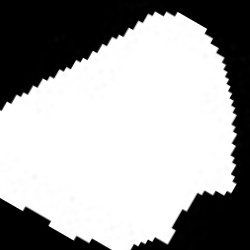spot: (2, 11, 239, 248)
